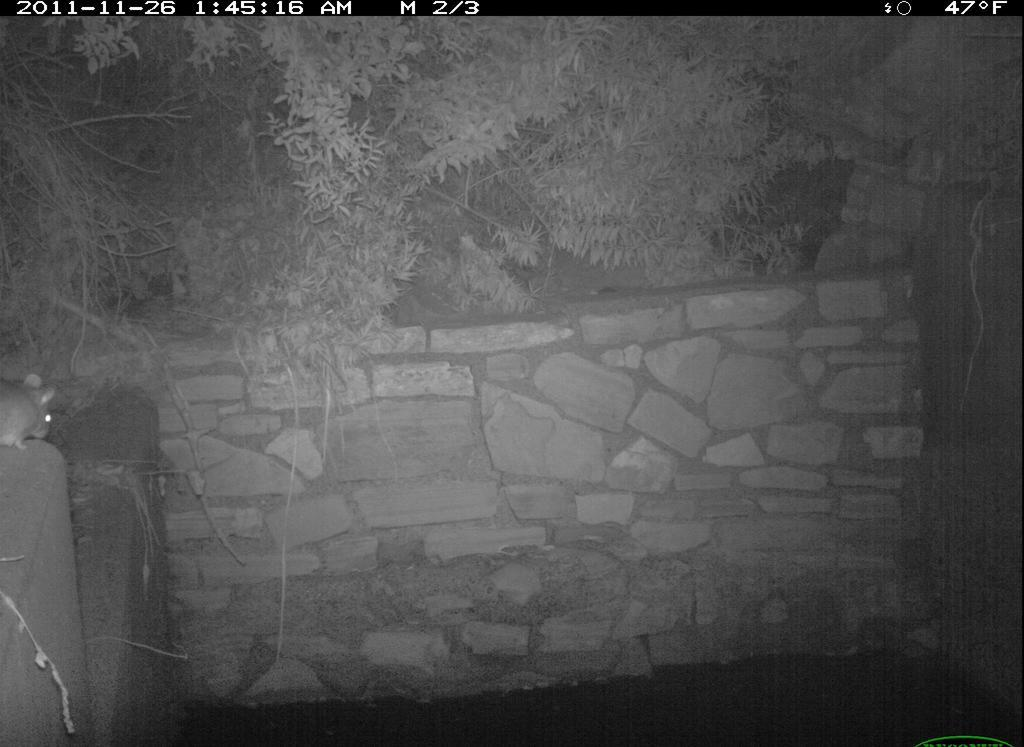rodent: (1, 365, 65, 470)
